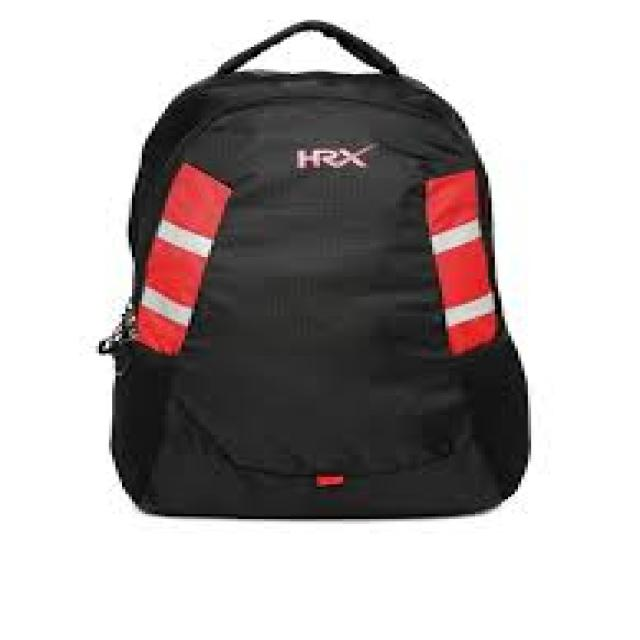backpack: (97, 18, 532, 520)
